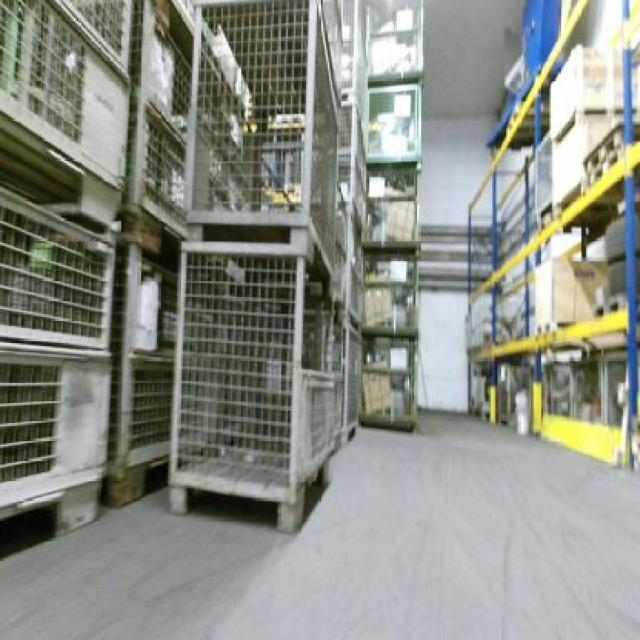floor: (0, 411, 637, 637)
pallets: (168, 0, 363, 528), (168, 242, 338, 529), (0, 172, 118, 529)
